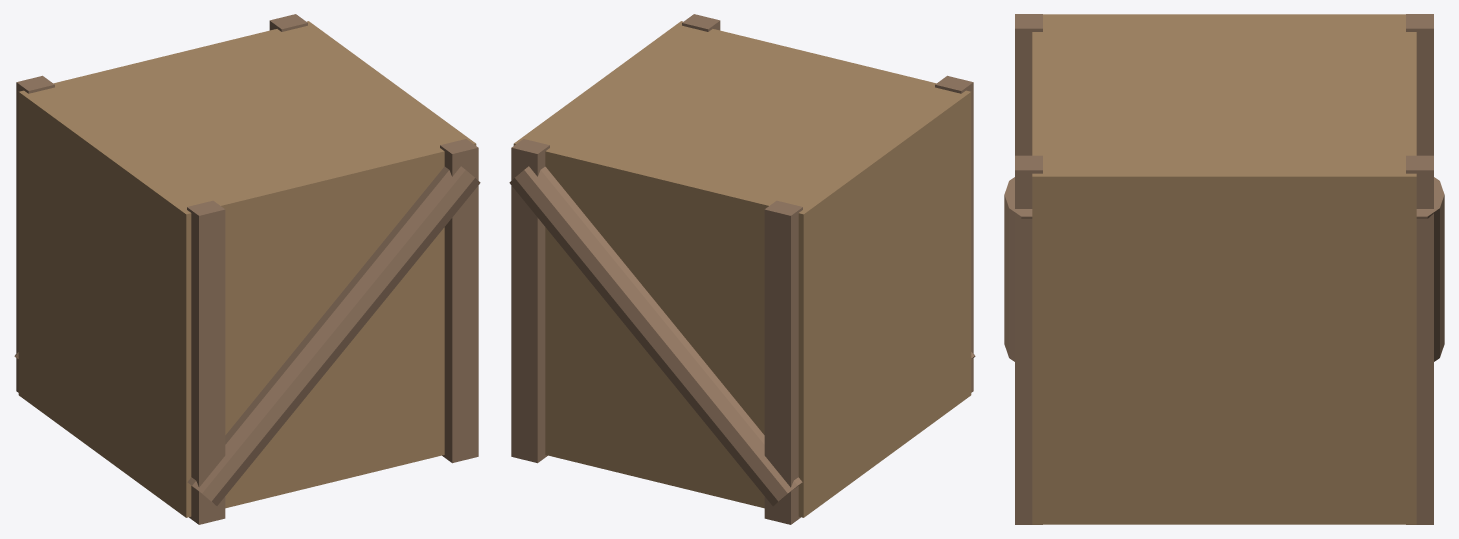
Rendered from wooden_crate.glb.
3 renders of one model, left to right at view 1: azimuth 30°, elevation 25°; view 2: azimuth 150°, elevation 25°; view 3: azimuth 270°, elevation 25°, orthographic. The views are drawn at different scales.
Parts seen in each view (by area): view 1: part_0, part_6, part_4, part_5, part_1; view 2: part_0, part_3, part_1, part_2, part_4; view 3: part_0, part_2, part_5, part_1, part_4, part_3, part_6.
Boxes of the visible parts, box(x1,y1,x2,y2) form: part_0: box(18, 21, 476, 517); part_6: box(187, 166, 480, 506); part_4: box(187, 200, 225, 524); part_5: box(440, 139, 478, 463); part_1: box(16, 75, 54, 392); part_0: box(513, 21, 971, 517); part_3: box(509, 166, 802, 506); part_1: box(764, 200, 802, 524); part_2: box(511, 139, 549, 463); part_4: box(935, 75, 973, 392); part_0: box(1032, 14, 1416, 524); part_2: box(1406, 155, 1433, 524); part_5: box(1015, 155, 1042, 524); part_1: box(1406, 14, 1433, 155); part_4: box(1015, 14, 1042, 155); part_3: box(1416, 177, 1444, 361); part_6: box(1004, 177, 1032, 361).
Size of the model in its own units: 1.1 by 1.12 by 1.26.
